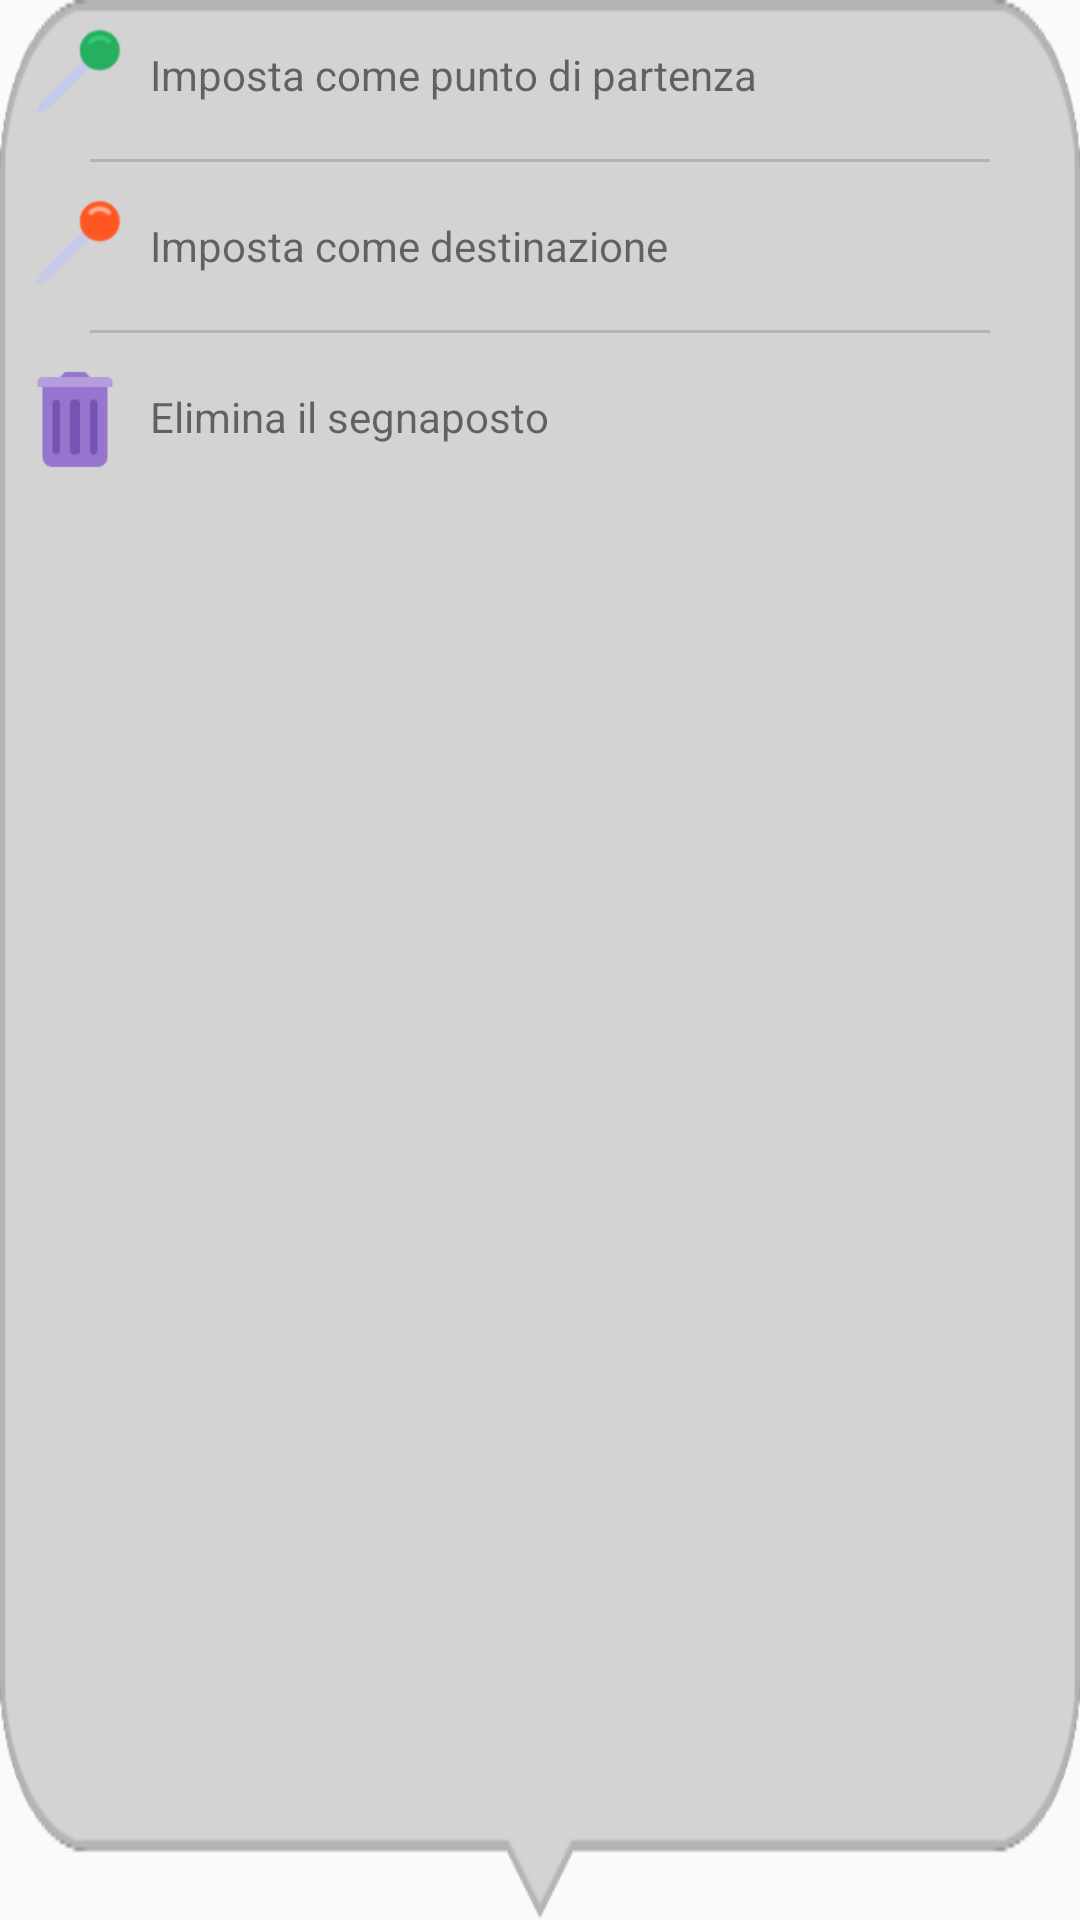

Screen size 1080 × 1920. Icon name, then its center in pixels as (x,y):
Rimuovi pin: (75,419)
Setta destinazione: (100,221)
Setta partenza: (68,55)
